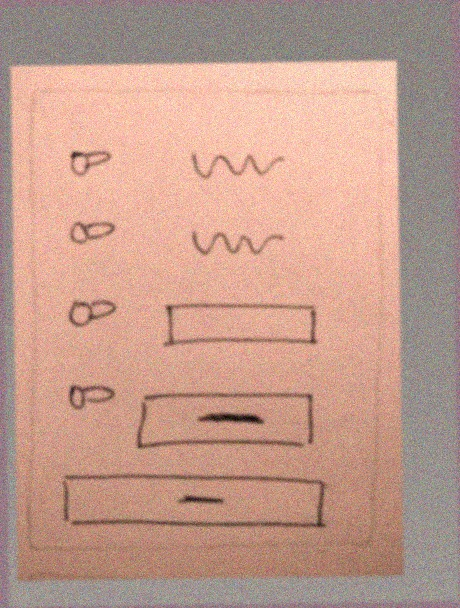button: (55, 465, 332, 539), (131, 385, 322, 459)
switch: (65, 293, 126, 338), (63, 375, 120, 420), (63, 139, 120, 182), (62, 208, 119, 249)
text: (180, 142, 290, 190), (181, 221, 289, 266)
text_input: (156, 294, 327, 360)
